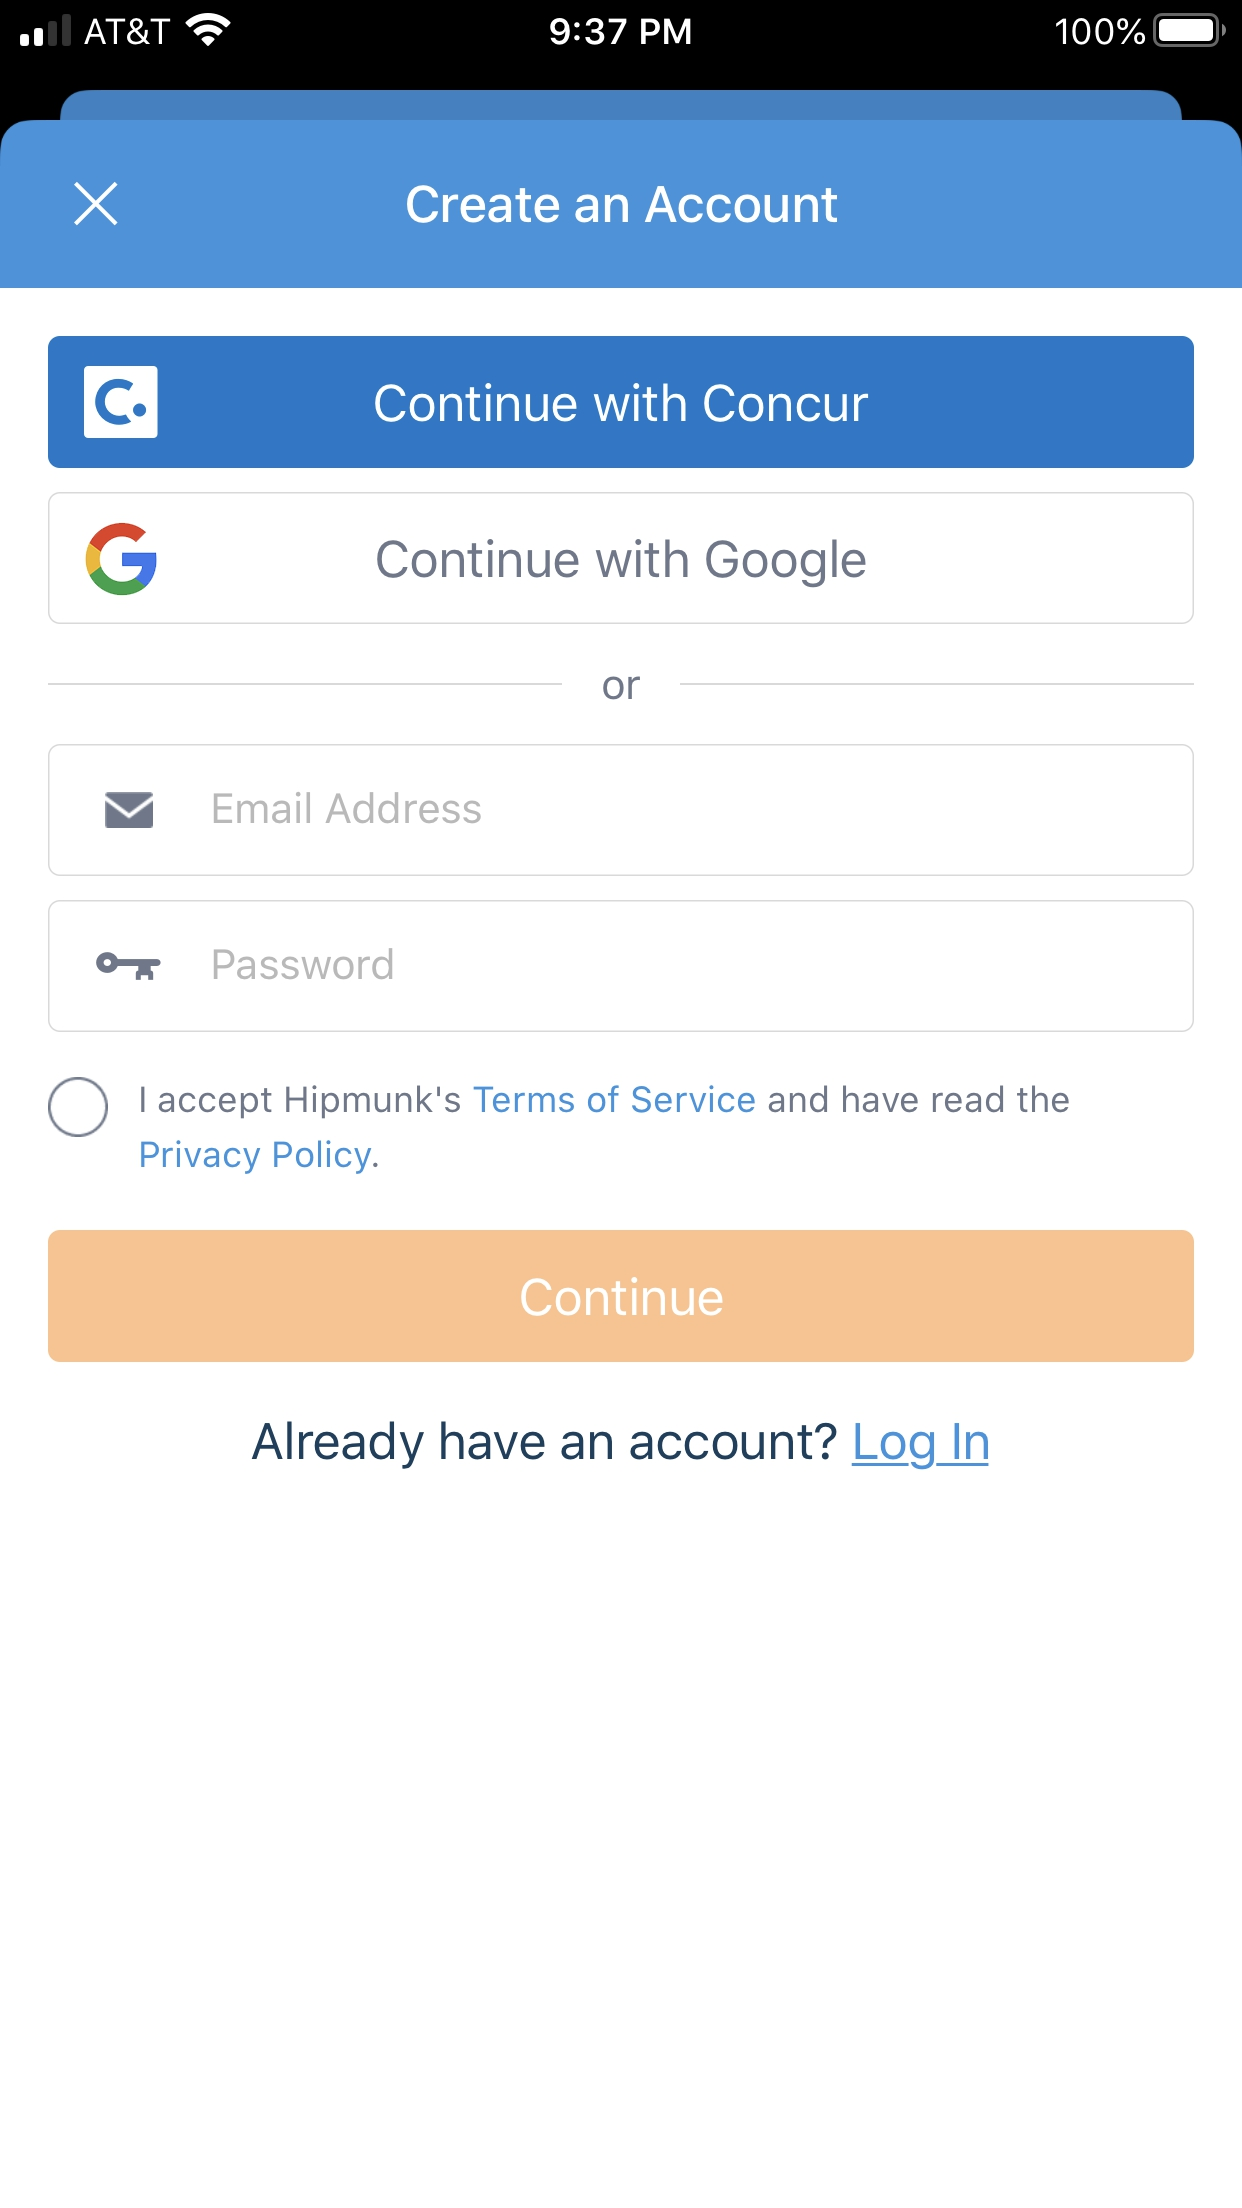CheckedTextView: (47, 1075, 1071, 1177)
EditText: (49, 899, 1193, 1033), (49, 745, 1193, 877)
Icon: (74, 183, 118, 227), (97, 952, 162, 981), (106, 793, 155, 830)
Text: (143, 1084, 1069, 1175), (253, 1421, 989, 1469), (406, 185, 839, 224), (214, 792, 482, 825), (214, 948, 394, 981), (604, 676, 641, 701)
TextButton: (49, 1230, 1193, 1363), (49, 493, 1195, 625), (49, 337, 1193, 469)
UpperTaskBar: (2, 2, 1242, 47)
